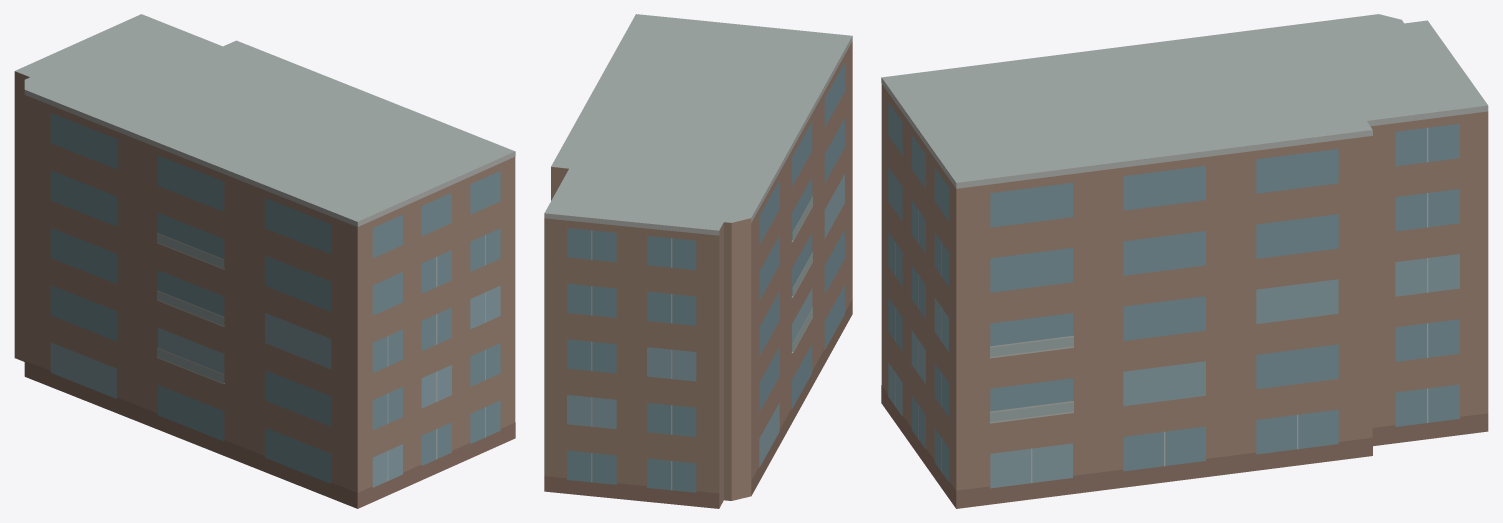
The model's file is survey-upis-32615374.glb.
3 renders of one model, left to right at view 1: azimuth 30°, elevation 25°; view 2: azimuth 150°, elevation 25°; view 3: azimuth 270°, elevation 25°, orthographic. The views are drawn at different scales.
Parts seen in each view (by area): view 1: survey-upis-32615374.tmp; view 2: survey-upis-32615374.tmp; view 3: survey-upis-32615374.tmp.
Part boxes in pixels (bbox=[...]): survey-upis-32615374.tmp: bbox=[14, 14, 515, 508]; survey-upis-32615374.tmp: bbox=[544, 14, 852, 508]; survey-upis-32615374.tmp: bbox=[881, 14, 1488, 508].
Bounding box in the file's own units: 15.19 × 13.65 × 23.05.
